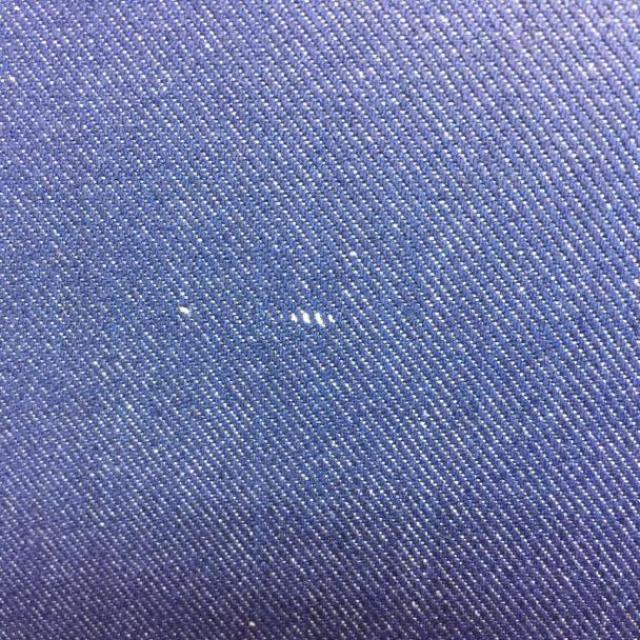Knot: (289, 311, 336, 328), (177, 307, 189, 317)
